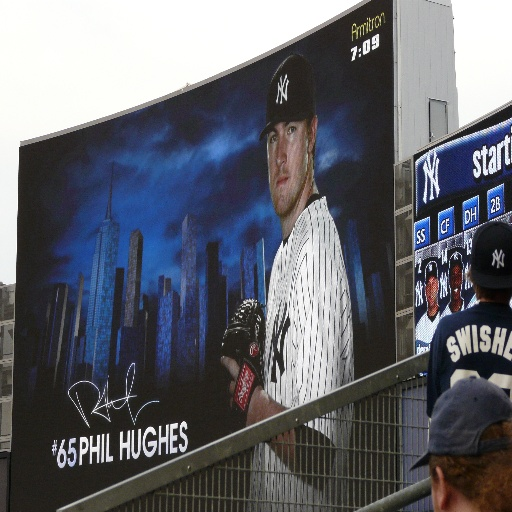hand: (219, 353, 263, 431)
